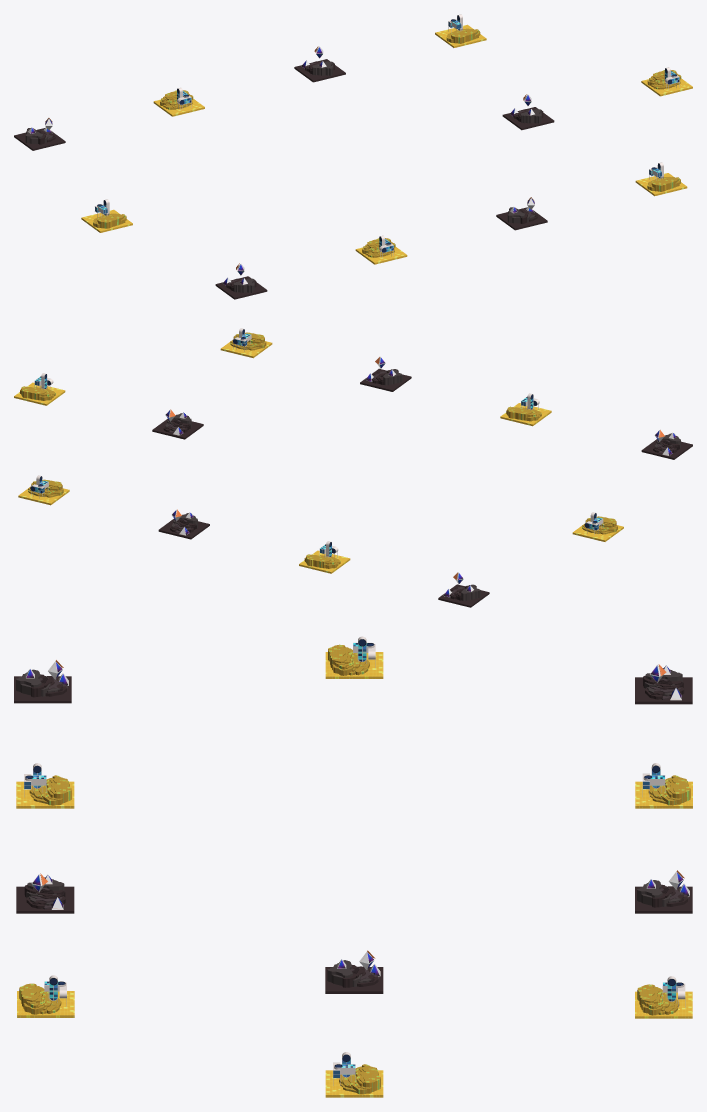
Rendered from D9_Wildcard_Part_3.fbx.
3 renders of one model, top to bottom at view 1: azimuth 30°, elevation 25°; view 2: azimuth 150°, elevation 25°; view 3: azimuth 270°, elevation 25°, orthographic. The views are drawn at different scales.
Visible parts, largest first — view 1: Cube.397, Cube.392, Cube.402, Cube.401, Cube.399, Cube.395, Cube.393, Cube.398, Cube.396, Cube.400, Cube.394; view 2: Cube.395, Cube.399, Cube.401, Cube.397, Cube.392, Cube.402, Cube.396, Cube.398, Cube.393, Cube.394, Cube.400; view 3: Cube.397, Cube.392, Cube.399, Cube.402, Cube.401, Cube.395, Cube.400, Cube.394, Cube.393, Cube.398, Cube.396.
Part boxes in pixels (<box>): Cube.397: <box>435,14,486,47</box>; Cube.392: <box>81,199,132,232</box>; Cube.402: <box>635,162,687,196</box>; Cube.401: <box>355,235,407,264</box>; Cube.399: <box>641,67,692,96</box>; Cube.395: <box>153,87,204,116</box>; Cube.393: <box>215,263,267,299</box>; Cube.398: <box>502,94,554,130</box>; Cube.396: <box>294,46,345,82</box>; Cube.400: <box>496,197,547,230</box>; Cube.394: <box>14,118,65,150</box>; Cube.395: <box>299,541,350,573</box>; Cube.399: <box>14,373,65,405</box>; Cube.401: <box>500,393,551,426</box>; Cube.397: <box>18,475,69,505</box>; Cube.392: <box>572,512,623,541</box>; Cube.402: <box>220,328,272,358</box>; Cube.396: <box>158,509,209,539</box>; Cube.398: <box>152,409,203,439</box>; Cube.393: <box>641,430,692,459</box>; Cube.394: <box>438,572,489,607</box>; Cube.400: <box>360,357,411,391</box>; Cube.397: <box>635,976,692,1018</box>; Cube.392: <box>325,636,383,678</box>; Cube.399: <box>325,1052,383,1097</box>; Cube.402: <box>17,975,74,1017</box>; Cube.401: <box>16,763,74,808</box>; Cube.395: <box>635,763,692,808</box>; Cube.400: <box>16,873,74,913</box>; Cube.394: <box>635,664,692,704</box>; Cube.393: <box>14,660,71,703</box>; Cube.398: <box>325,950,383,993</box>; Cube.396: <box>635,870,692,913</box>.
Bounding box in the file's own units: 72490 × 2568 × 46976.
8 materials, 8 textured.
